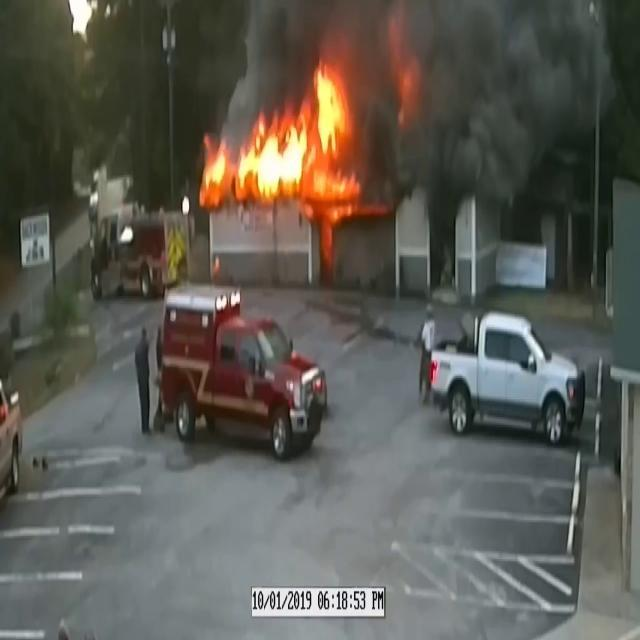Fire: (204, 56, 362, 212)
Smoke: (376, 0, 622, 243)
